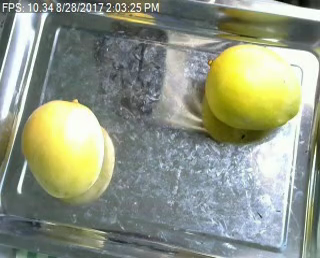Mango: (203, 39, 302, 130), (19, 95, 106, 195)
